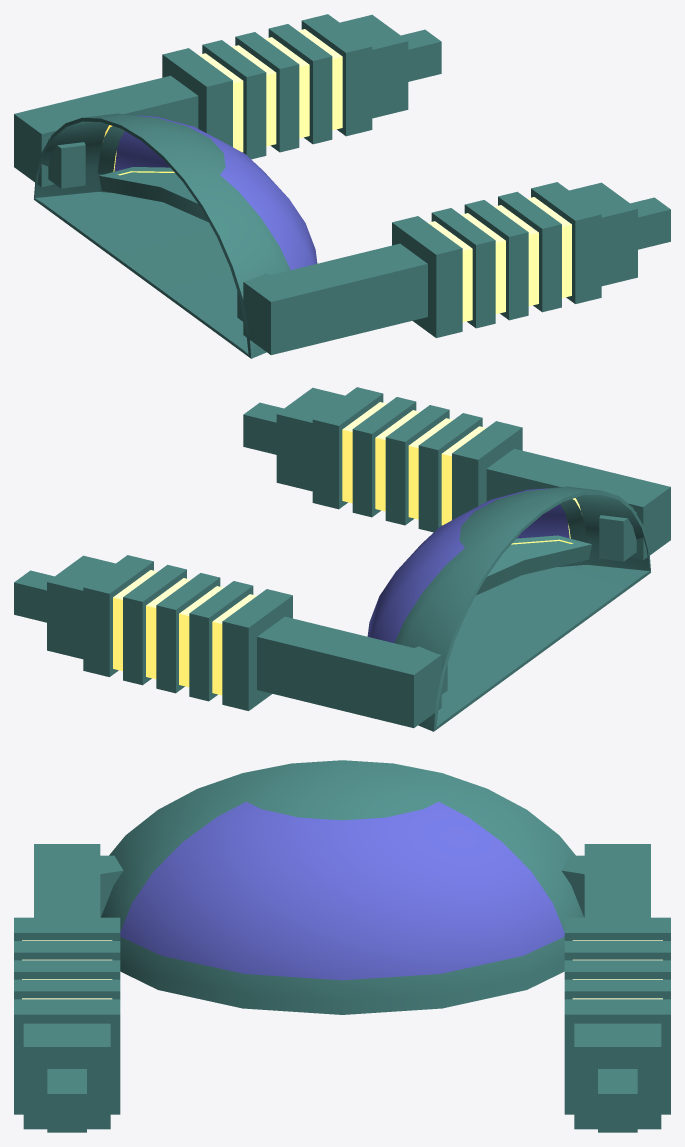
File: PR_spaceshipCombined.fbx
3 views of the same model, one above another, from view 1: azimuth 30°, elevation 25°; view 2: azimuth 150°, elevation 25°; view 3: azimuth 270°, elevation 25° (orthographic). The views are drawn at different scales.
Visible parts, largest first — view 1: PR_guns, PR_cockpit, PR_console; view 2: PR_guns, PR_cockpit, PR_console; view 3: PR_cockpit, PR_guns.
Part boxes in pixels (box(x1,y1,x2,y2)): PR_guns: box(14, 14, 670, 355); PR_cockpit: box(34, 113, 317, 358); PR_console: box(99, 167, 208, 222); PR_guns: box(14, 387, 670, 728); PR_cockpit: box(367, 486, 650, 731); PR_console: box(476, 535, 591, 595); PR_cockpit: box(101, 760, 583, 1014); PR_guns: box(14, 844, 670, 1132).
Size of the model in its own units: 684 by 227 by 798.
